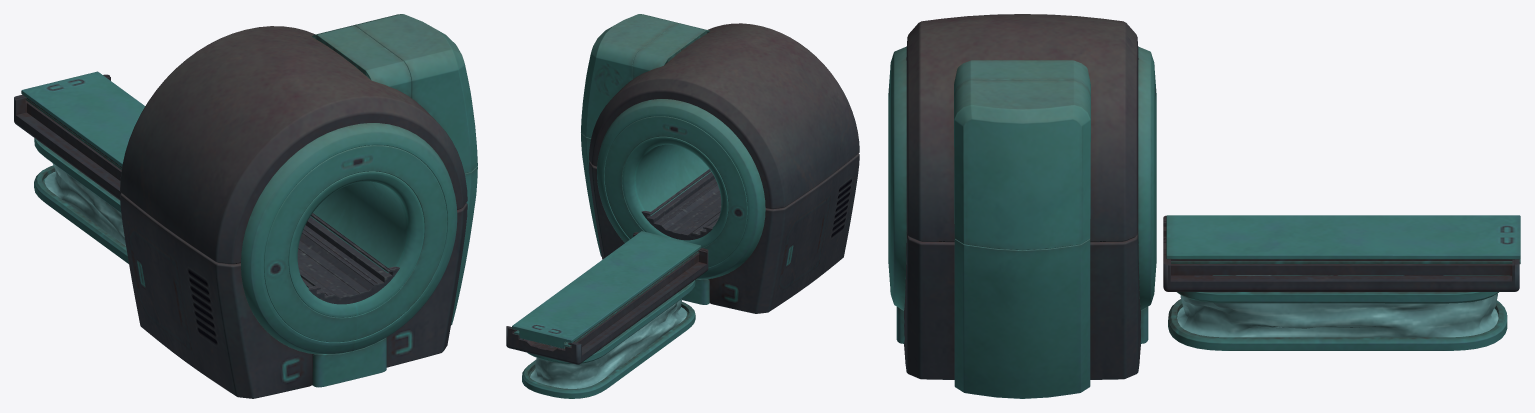
File: radialogi machine .fbx
3 renders of one model, left to right at view 1: azimuth 30°, elevation 25°; view 2: azimuth 150°, elevation 25°; view 3: azimuth 270°, elevation 25°, orthographic. The views are drawn at different scales.
Visible parts, largest first — view 1: mid:008_Cylinder:041_None_0, mid:007_Cylinder:039_None_0, panel:003_Cylinder:037_None_0, ring1:003_Cylinder:038_None_0, in_:003_Cylinder:036_None_0, Cube:052_Cube:061_None_0, Cube:049_Cube:058_None_0, Cube:048_Cube:056_None_0, Cube_025:002_Cube:057_None_0, Cube:051_Cube:060_None_0, Cylinder:018_Cylinder:040_None_0, Cube:053_Cube:062_None_0 (+3 smaller); view 2: mid:008_Cylinder:041_None_0, mid:007_Cylinder:039_None_0, Cube:049_Cube:058_None_0, panel:003_Cylinder:037_None_0, ring1:003_Cylinder:038_None_0, in_:003_Cylinder:036_None_0, Cube:052_Cube:061_None_0, Cube_025:002_Cube:057_None_0, Cube:053_Cube:062_None_0, Cube:048_Cube:056_None_0, Cube:046_Cube:054_None_0, Cube:051_Cube:060_None_0 (+3 smaller); view 3: mid:008_Cylinder:041_None_0, Cube:052_Cube:061_None_0, Cube:050_Cube:059_None_0, Cube:049_Cube:058_None_0, mid:007_Cylinder:039_None_0, Cube_025:002_Cube:057_None_0, Cube:053_Cube:062_None_0, ring1:003_Cylinder:038_None_0, Cube:046_Cube:054_None_0, Cube:047_Cube:055_None_0, Cube:051_Cube:060_None_0, panel:003_Cylinder:037_None_0 (+1 smaller).
Part boxes in pixels (<box>): mid:008_Cylinder:041_None_0: <box>120,26,467,264</box>; mid:007_Cylinder:039_None_0: <box>120,193,467,398</box>; panel:003_Cylinder:037_None_0: <box>264,145,447,342</box>; ring1:003_Cylinder:038_None_0: <box>241,123,457,354</box>; in_:003_Cylinder:036_None_0: <box>288,171,424,317</box>; Cube:052_Cube:061_None_0: <box>353,14,477,173</box>; Cube:049_Cube:058_None_0: <box>21,71,145,169</box>; Cube:048_Cube:056_None_0: <box>297,213,399,304</box>; Cube_025:002_Cube:057_None_0: <box>14,74,121,200</box>; Cube:051_Cube:060_None_0: <box>312,25,411,97</box>; Cylinder:018_Cylinder:040_None_0: <box>312,337,386,387</box>; Cube:053_Cube:062_None_0: <box>44,163,125,245</box>; mid:008_Cylinder:041_None_0: <box>589,23,859,209</box>; mid:007_Cylinder:039_None_0: <box>589,153,859,313</box>; Cube:049_Cube:058_None_0: <box>512,231,701,348</box>; panel:003_Cylinder:037_None_0: <box>604,116,747,267</box>; ring1:003_Cylinder:038_None_0: <box>597,99,765,279</box>; in_:003_Cylinder:036_None_0: <box>622,136,728,247</box>; Cube:052_Cube:061_None_0: <box>581,14,677,138</box>; Cube_025:002_Cube:057_None_0: <box>506,232,708,364</box>; Cube:053_Cube:062_None_0: <box>530,299,686,388</box>; Cube:048_Cube:056_None_0: <box>641,169,721,240</box>; Cube:046_Cube:054_None_0: <box>522,302,695,398</box>; Cube:051_Cube:060_None_0: <box>632,23,710,79</box>; mid:008_Cylinder:041_None_0: <box>906,14,1138,242</box>; Cube:052_Cube:061_None_0: <box>954,80,1090,250</box>; Cube:050_Cube:059_None_0: <box>954,238,1090,398</box>; Cube:049_Cube:058_None_0: <box>1166,215,1520,263</box>; mid:007_Cylinder:039_None_0: <box>904,232,1140,379</box>; Cube_025:002_Cube:057_None_0: <box>1163,215,1519,291</box>; Cube:053_Cube:062_None_0: <box>1177,293,1498,337</box>; ring1:003_Cylinder:038_None_0: <box>890,46,1154,309</box>; Cube:046_Cube:054_None_0: <box>1168,299,1507,350</box>; Cube:047_Cube:055_None_0: <box>1177,292,1498,303</box>; Cube:051_Cube:060_None_0: <box>954,60,1090,95</box>; panel:003_Cylinder:037_None_0: <box>888,70,1156,285</box>.
Bounding box in the file's own units: 2.06 × 1.85 × 3.57.
